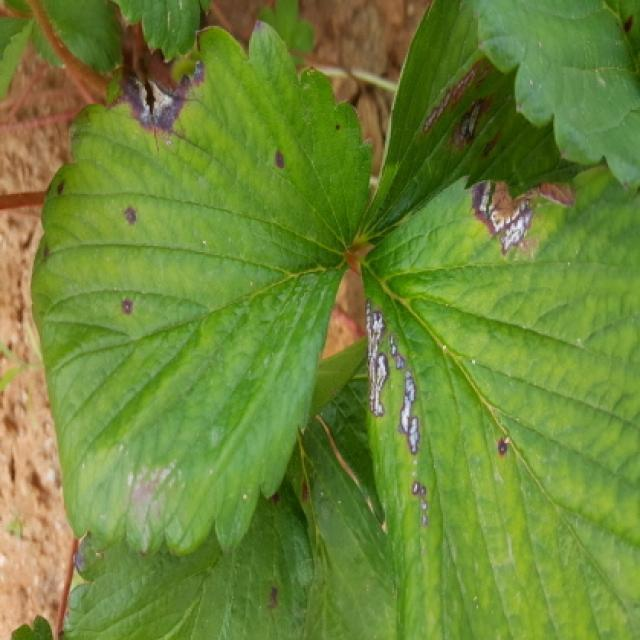Leaf Spot: (28, 18, 373, 563), (358, 167, 638, 638), (61, 336, 396, 638), (354, 0, 638, 250)
